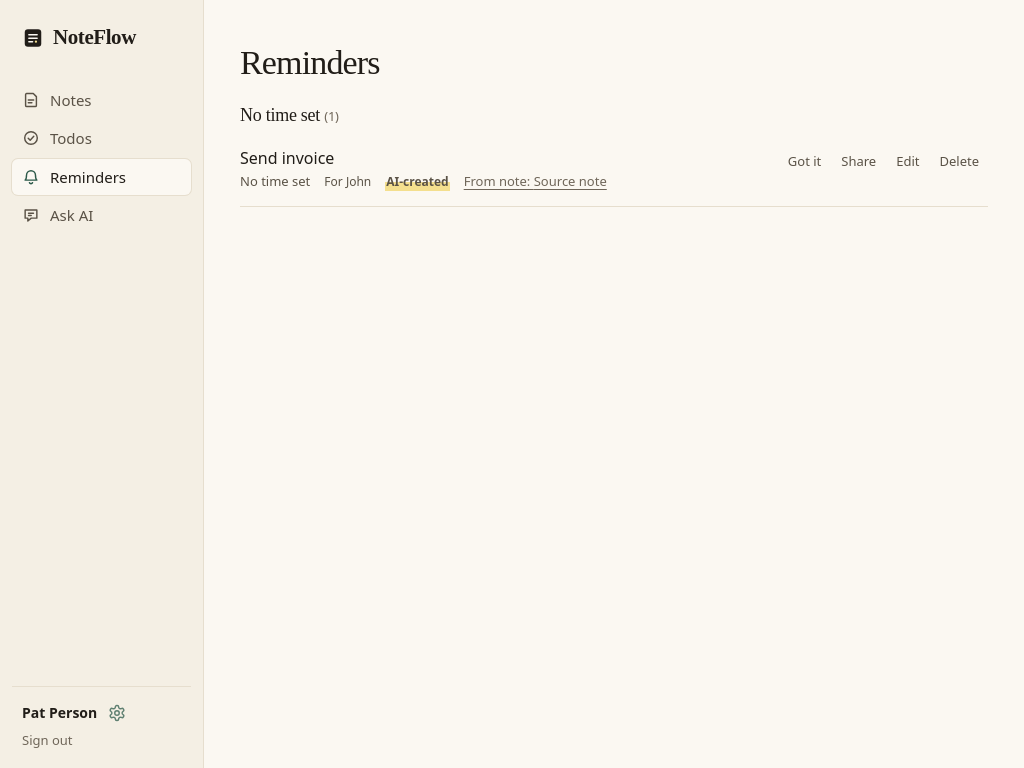
Scenario: editing › sends only the text when only the text changed
Click the button with aria-label "edit: send invoice": (908, 161) [887,147,928,175]
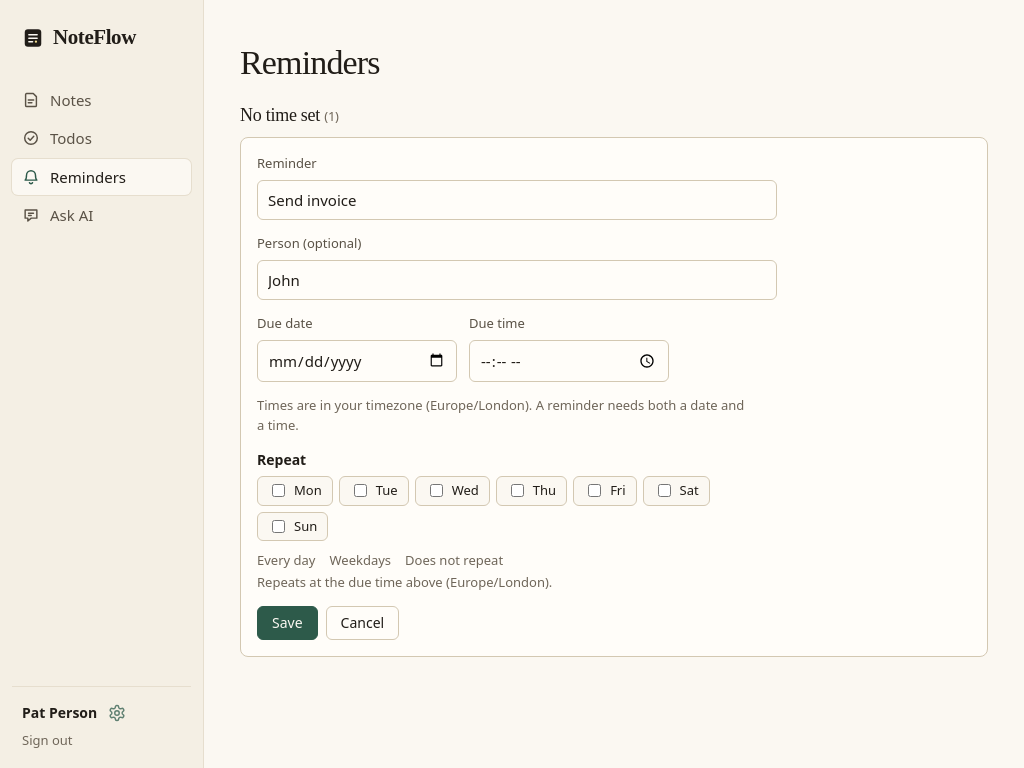
Replace the text in the field labelled "Reminder" with "Send final invoice": (517, 200) [257,180,777,220]
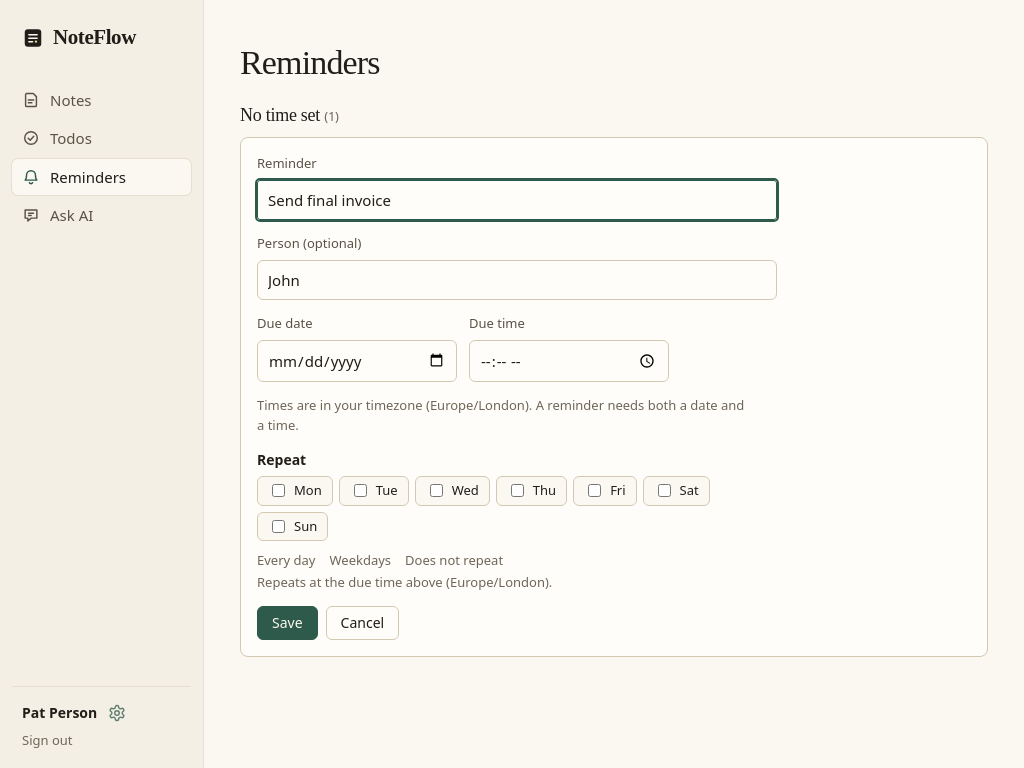
Click the button "Save": (287, 623) [257,606,318,640]
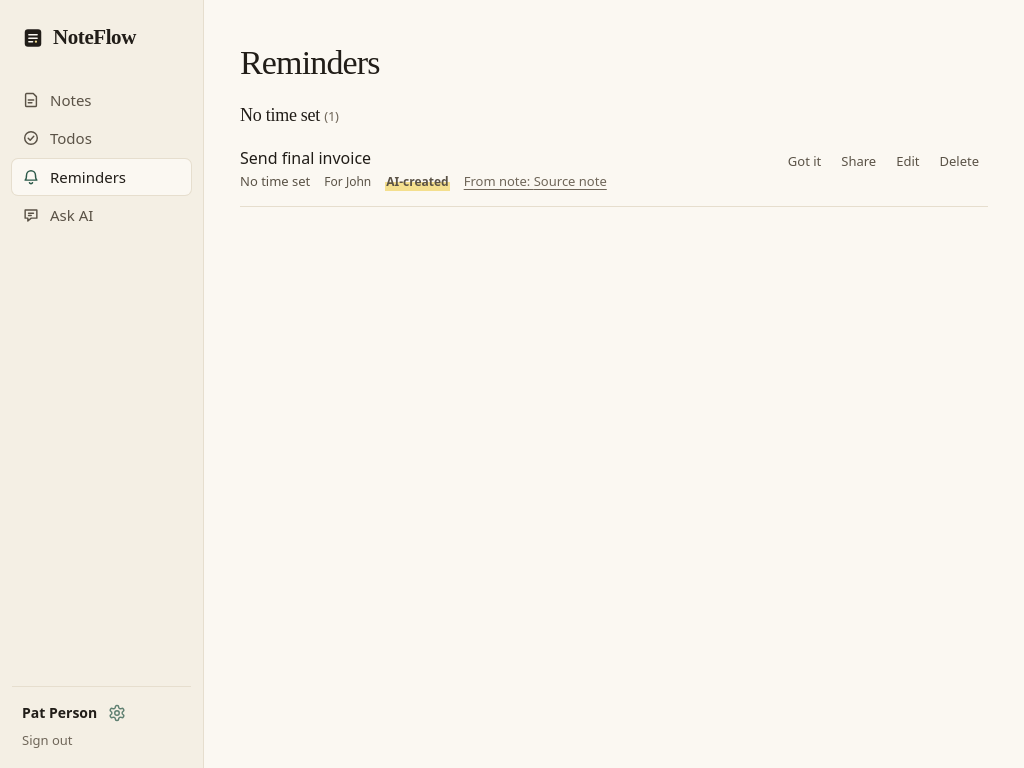
Expected: the text "Send final invoice" is shown, [240,147,371,169]
